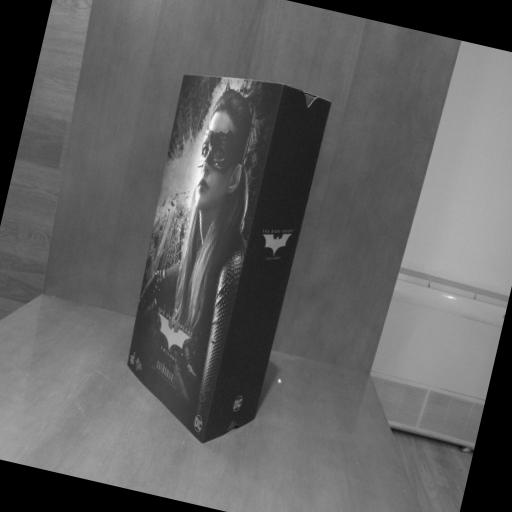catwoman: (104, 62, 334, 456)
